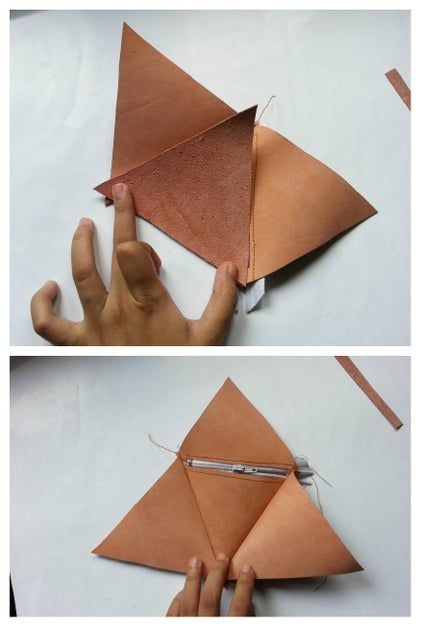cuero: (93, 23, 379, 578)
